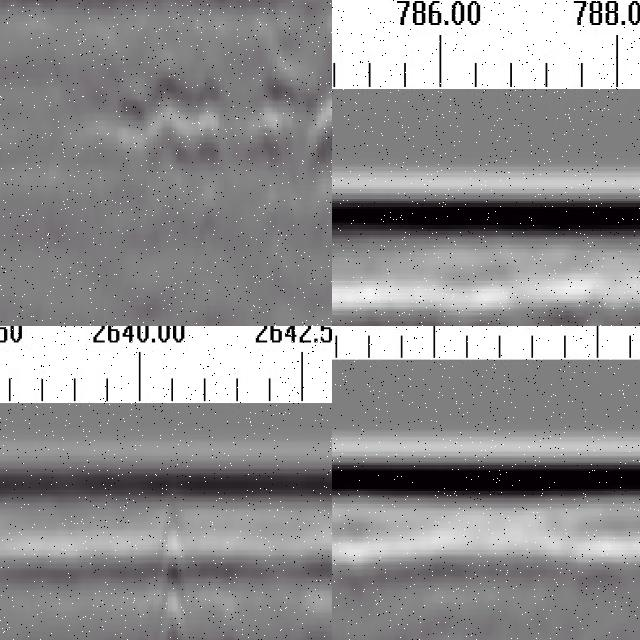crack: (153, 487, 192, 640)
loose: (122, 32, 333, 174)
